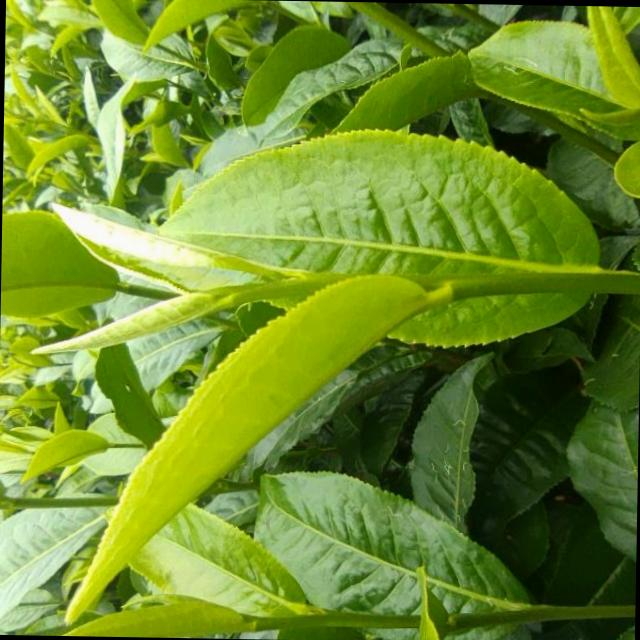Stem: (451, 274, 514, 296), (255, 616, 306, 628)
